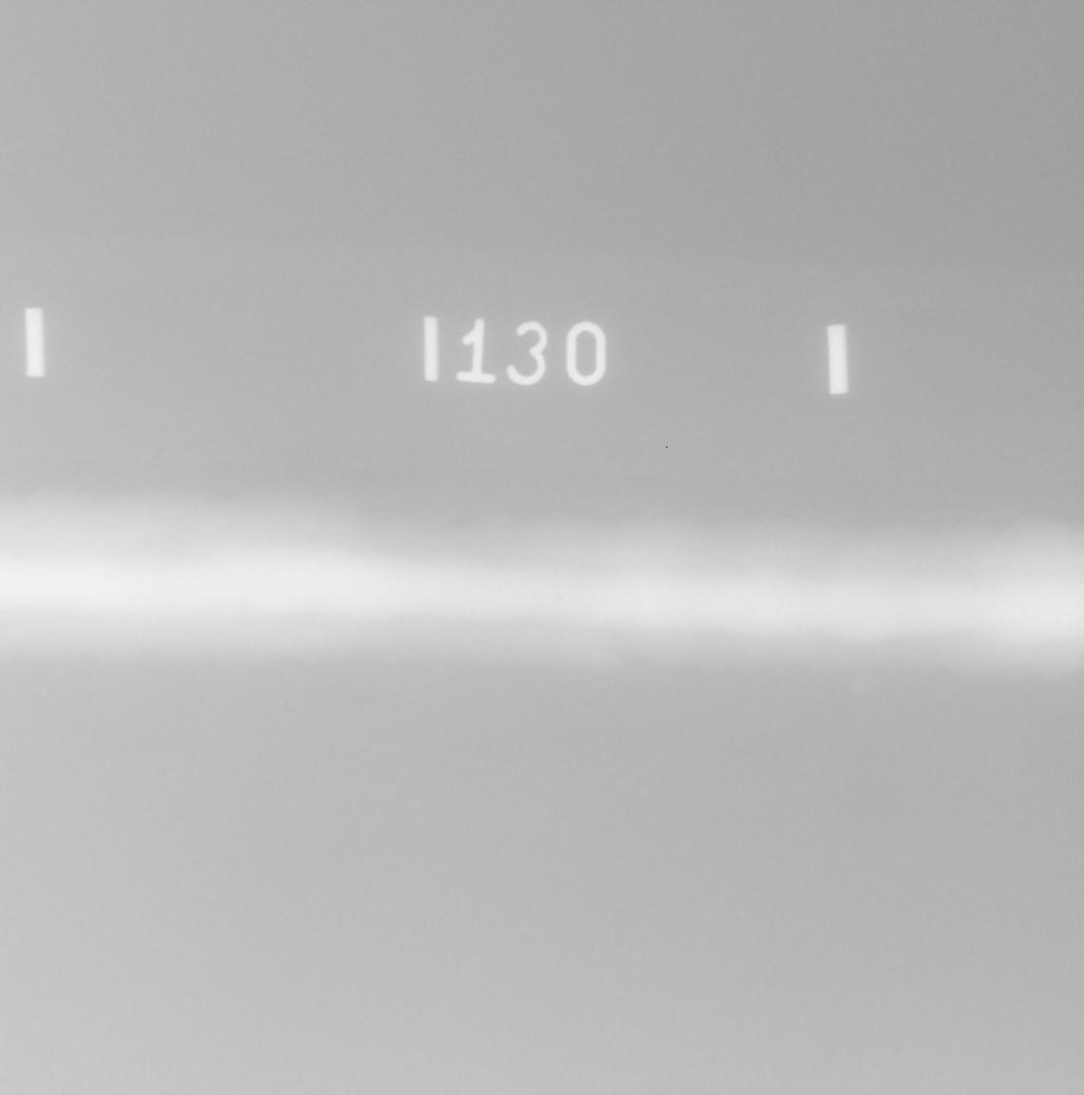Pore/Porosity: (686, 608, 697, 612), (554, 598, 560, 604), (585, 605, 590, 607)
